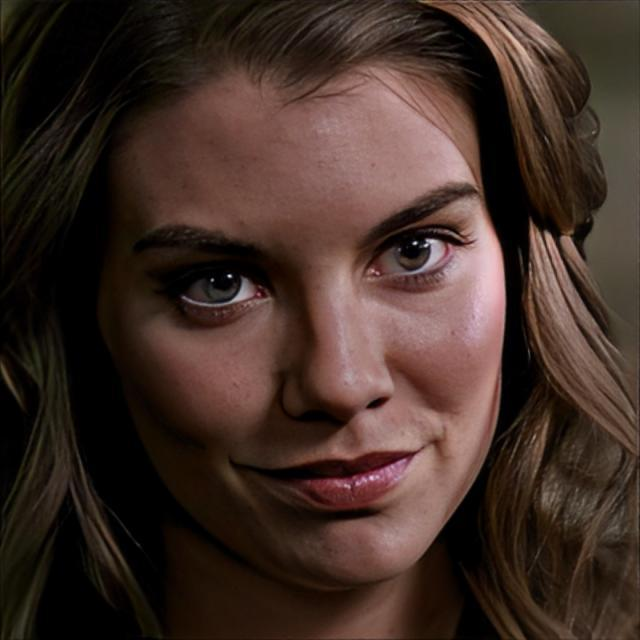content: (100, 55, 509, 586)
